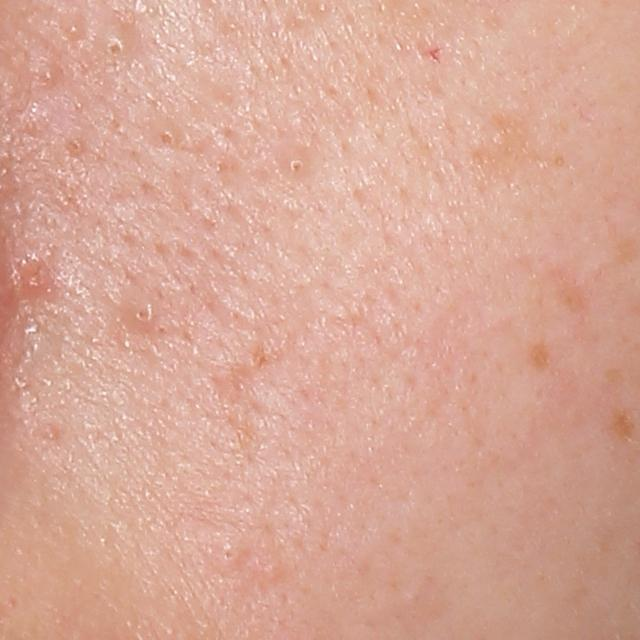comedo: (125, 295, 164, 335), (98, 29, 132, 62), (281, 150, 316, 181), (215, 538, 248, 570), (150, 124, 183, 153), (61, 11, 90, 42), (37, 60, 63, 87)
